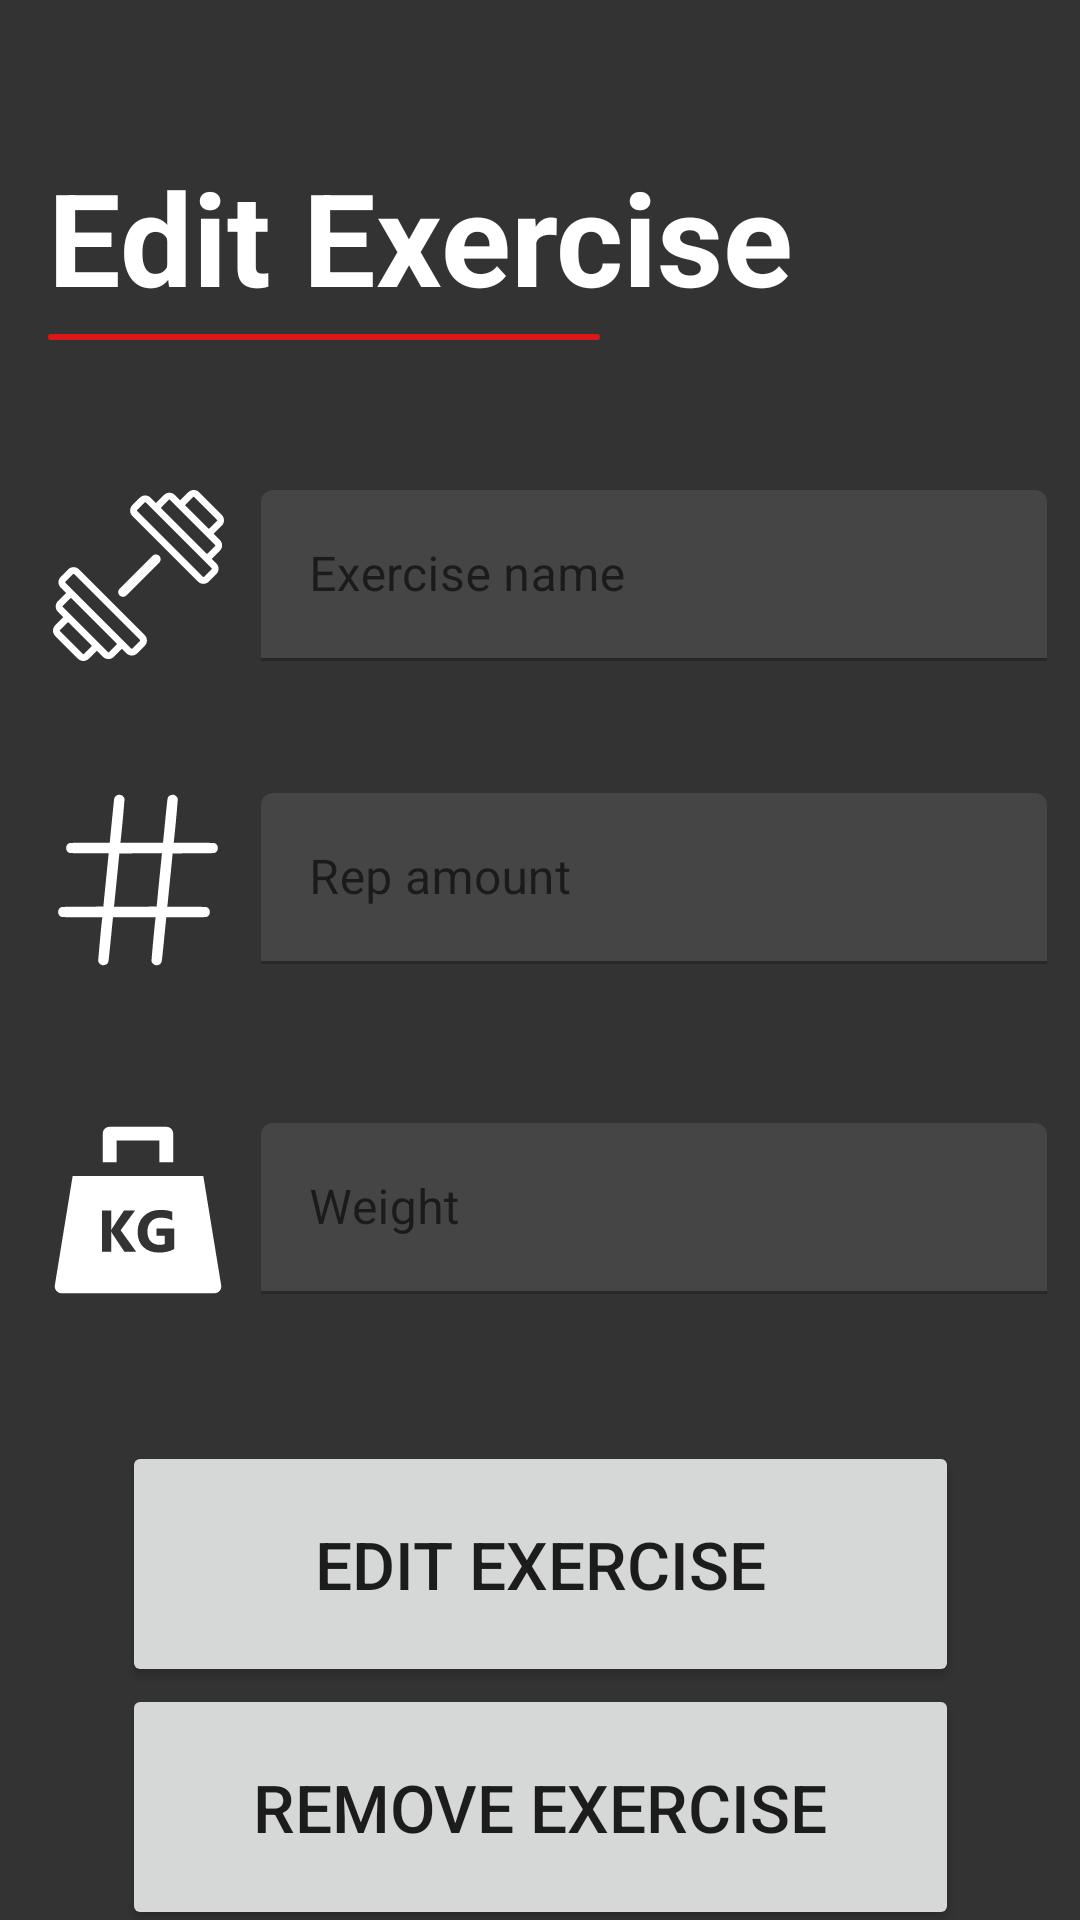

Icon click points for this 1080 x 1920 phone screenshot, format (x=x, y=y):
dumbell: (x=138, y=575)
hashtag: (x=138, y=880)
